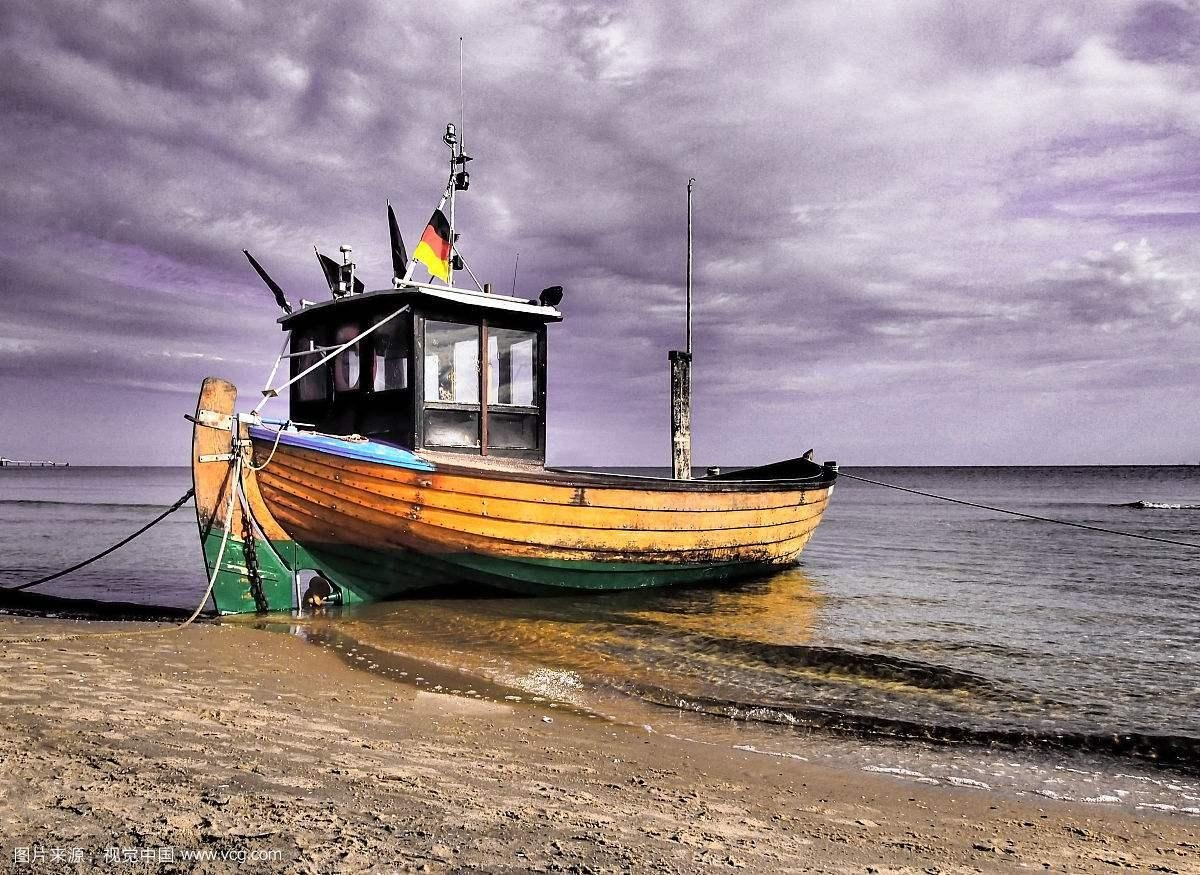otherboat: (181, 197, 864, 604)
